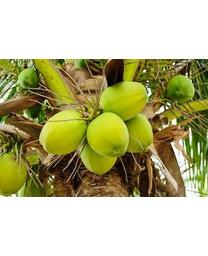coconut: (37, 97, 88, 156), (88, 112, 130, 158), (101, 80, 147, 117), (78, 133, 118, 173), (2, 155, 29, 196), (166, 74, 196, 106), (19, 65, 41, 94)
